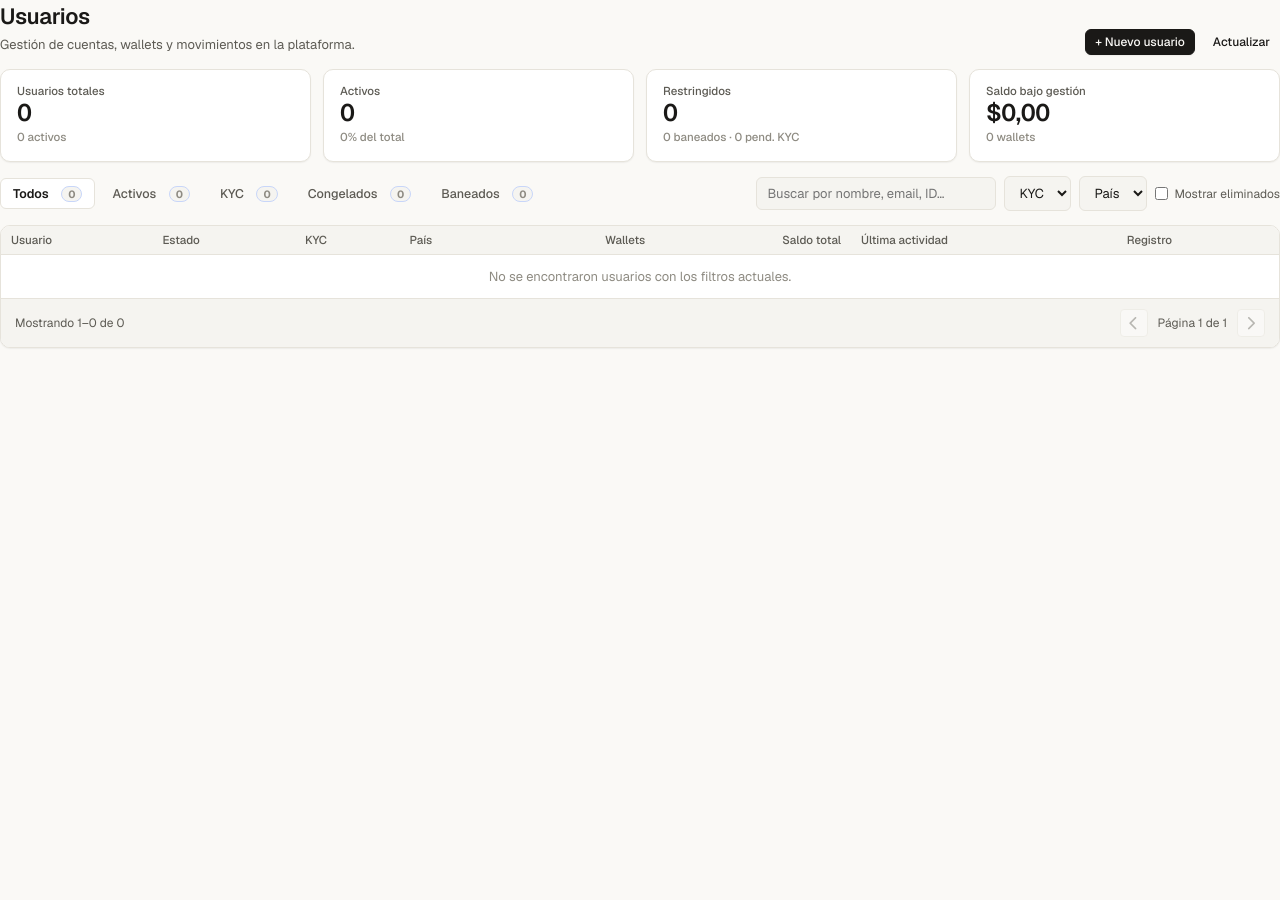
Test: AdminUsersView › opens CreateUserFlow modal when clicking + Nuevo usuario
This screenshot has width=1280, height=900.
Click the button "+ Nuevo usuario".
click(1140, 42)  # box [1085,28,1195,54]
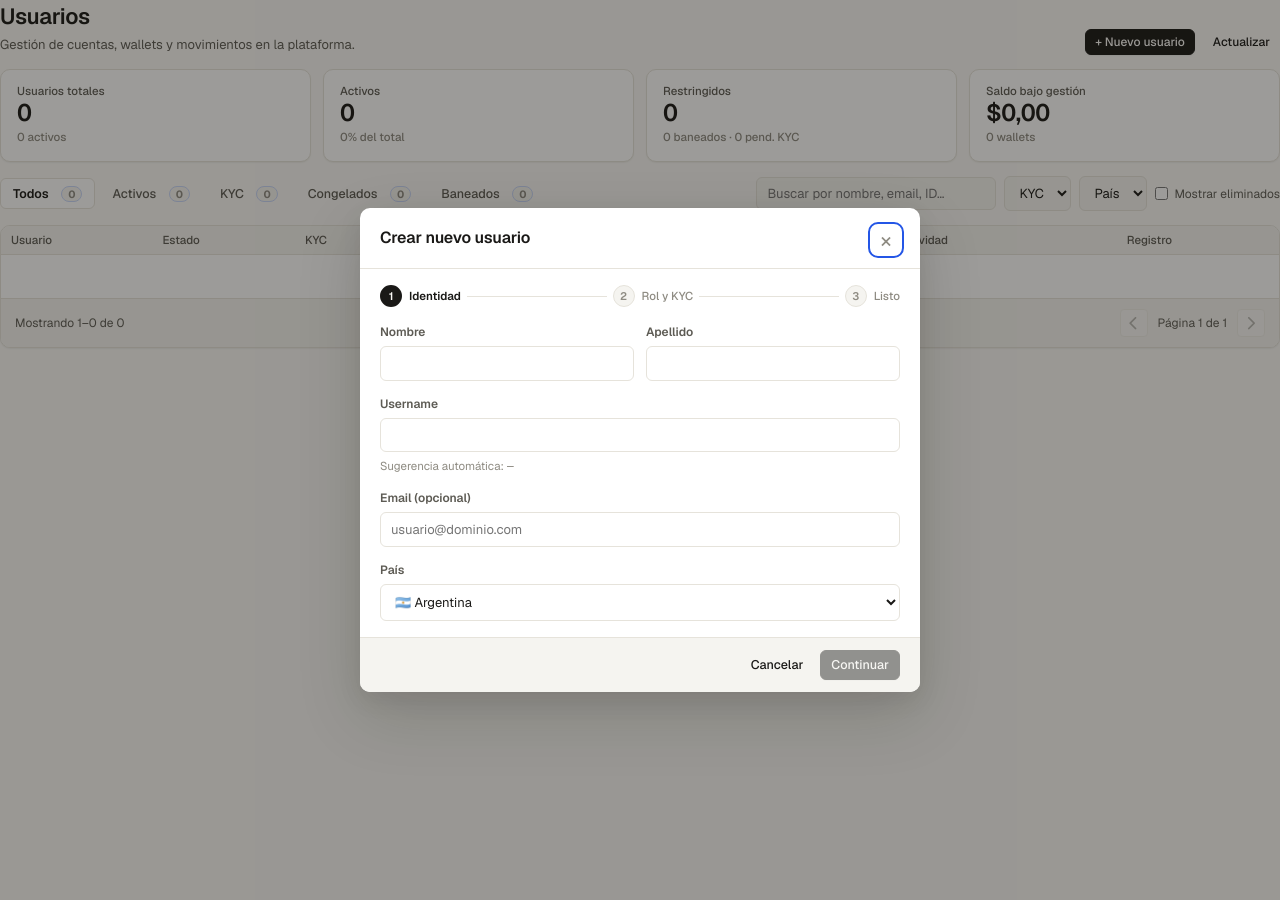
Expected: the text "Crear nuevo usuario" is shown, [380,226,530,250]
